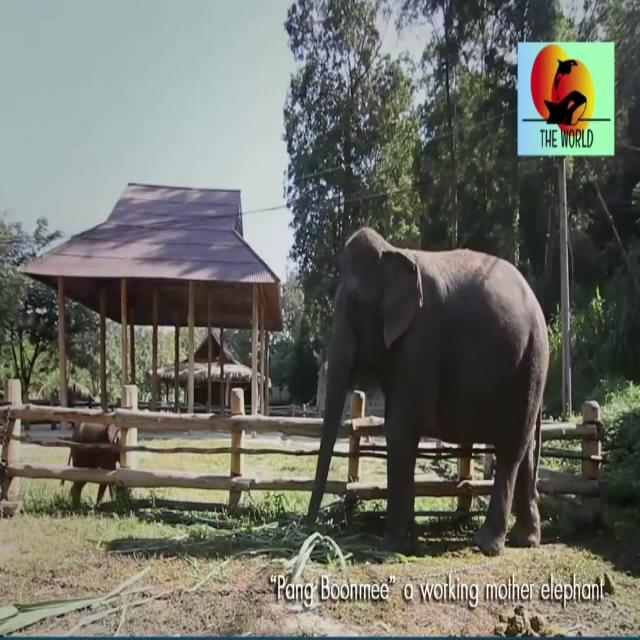Elephant: (330, 228, 517, 442)
